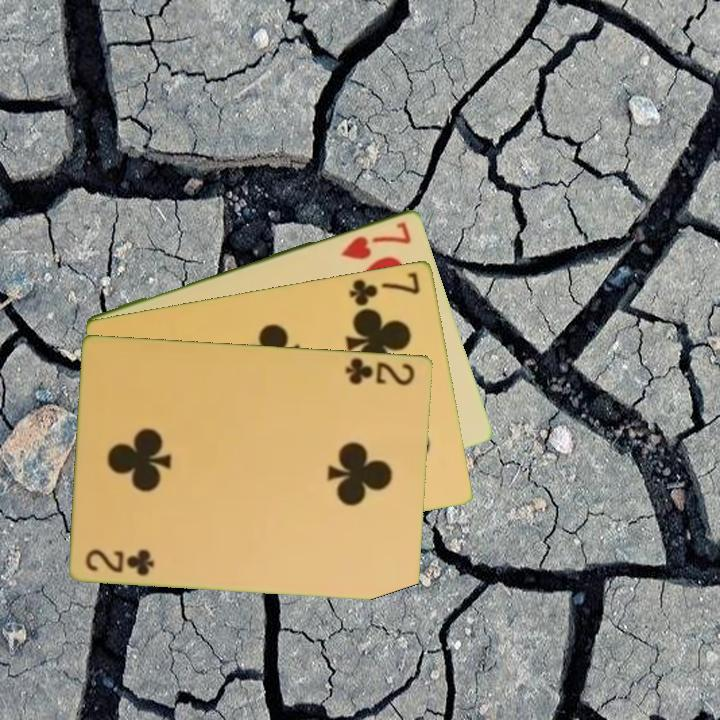2c: (342, 353, 418, 388), (83, 545, 158, 578)
7c: (345, 268, 423, 309)
7h: (337, 218, 415, 262)
